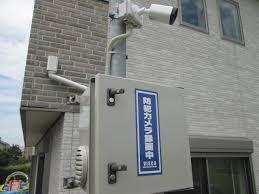tutu: (146, 2, 180, 27)
